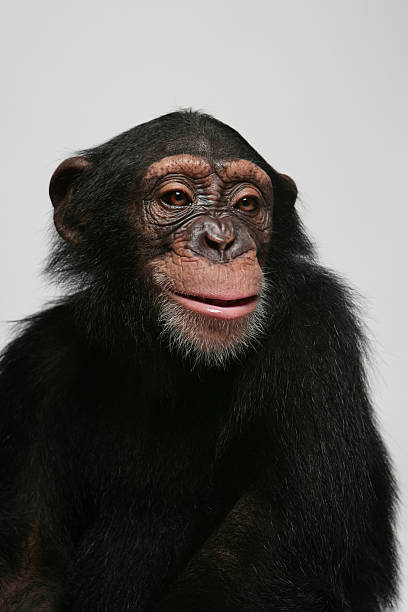chimpanzee: (17, 88, 373, 461)
